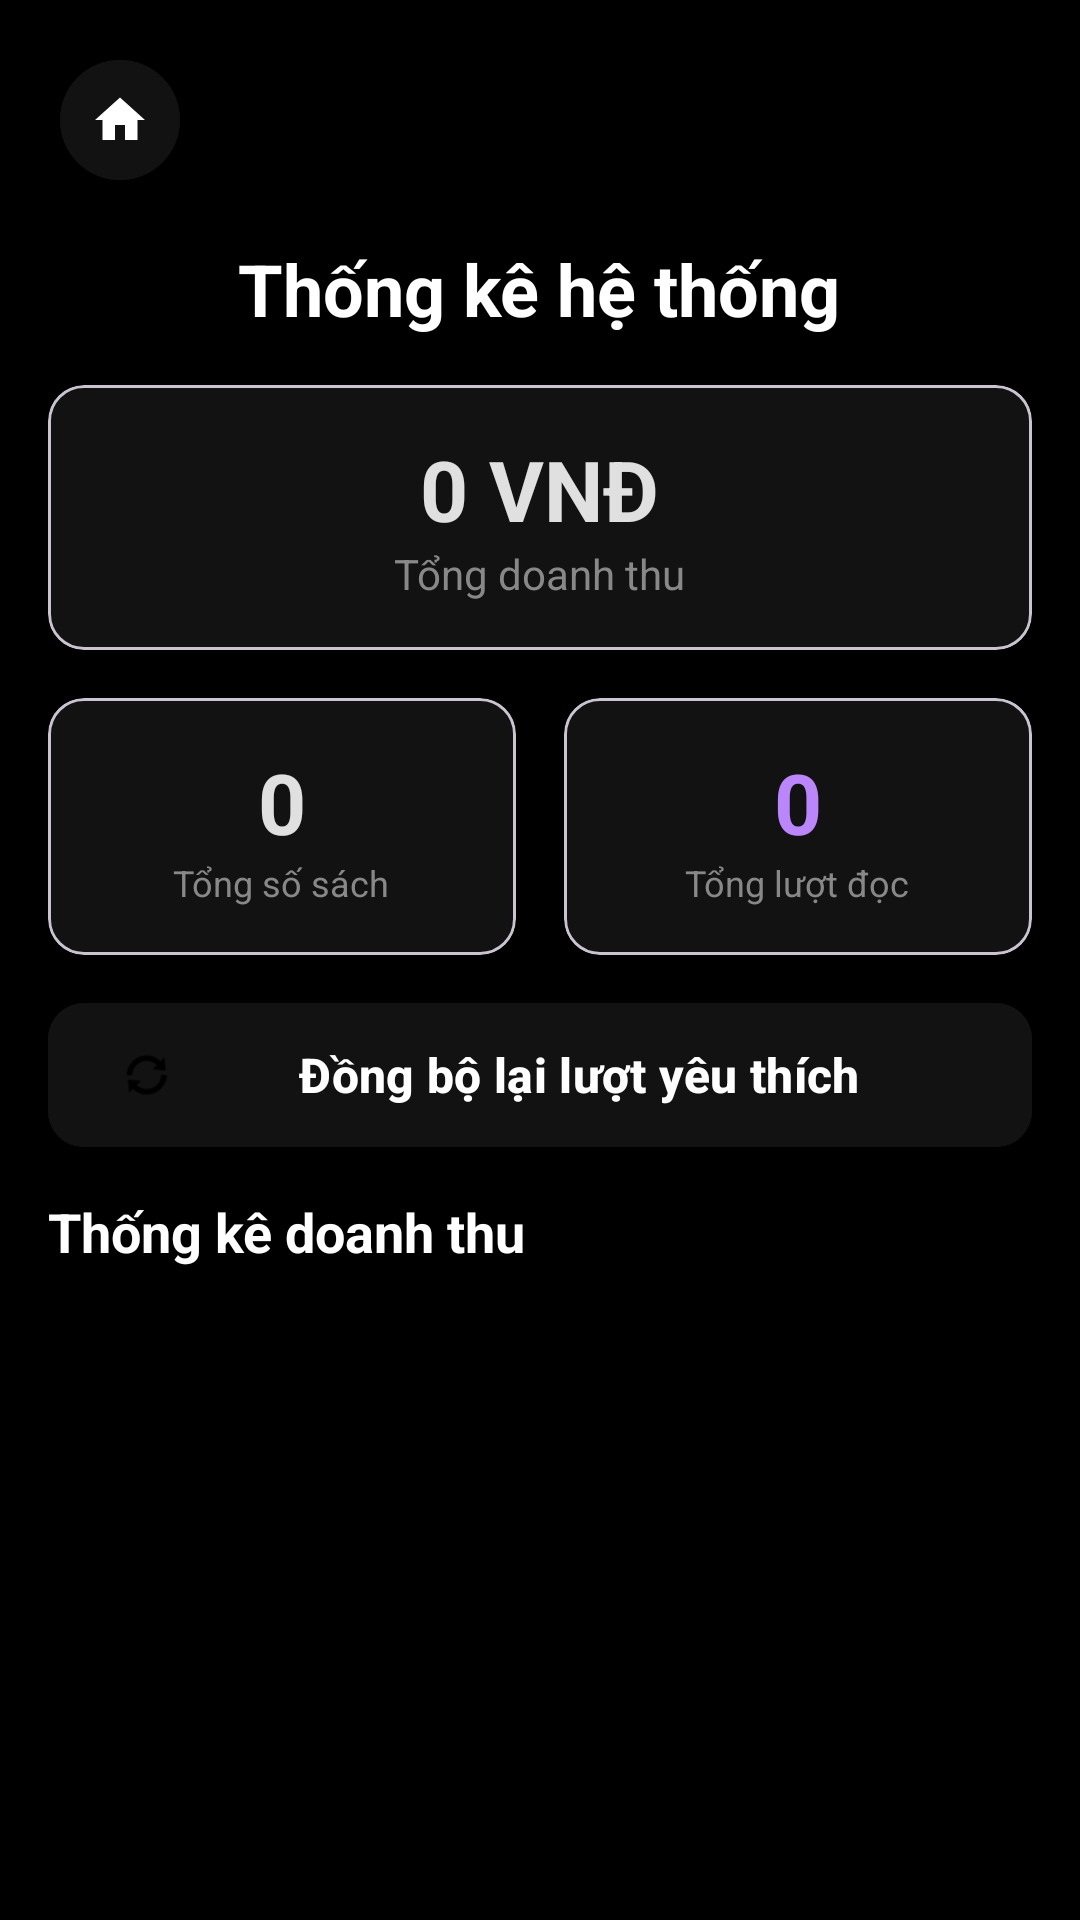

Icons on this 1080×1920 Android screen, each with its box as (x1, y1, x2, y2):
home: (95, 97, 145, 140)
